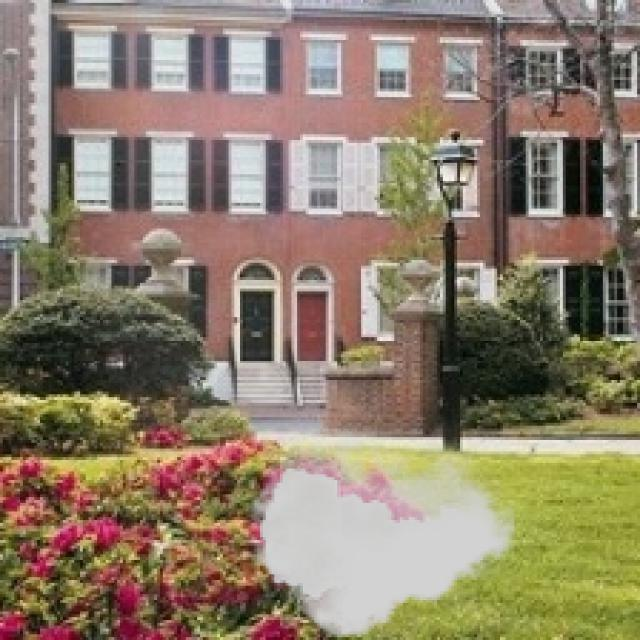Smoke: (248, 437, 514, 637)
